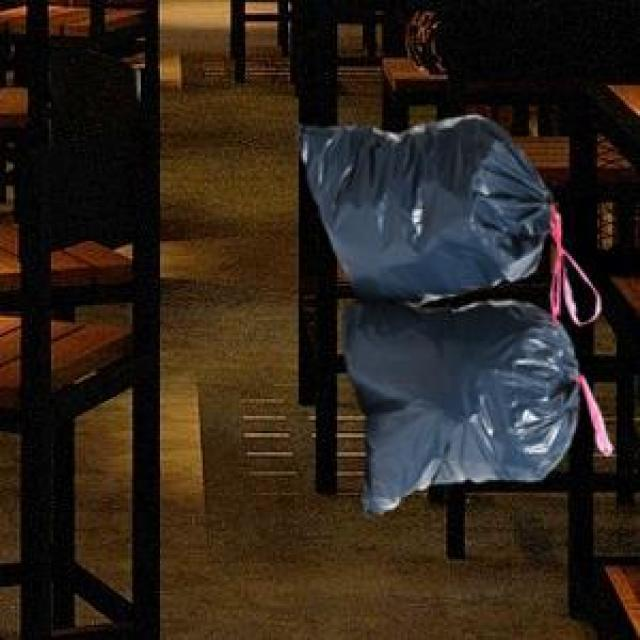miscellaneous trash: (292, 111, 608, 512)
